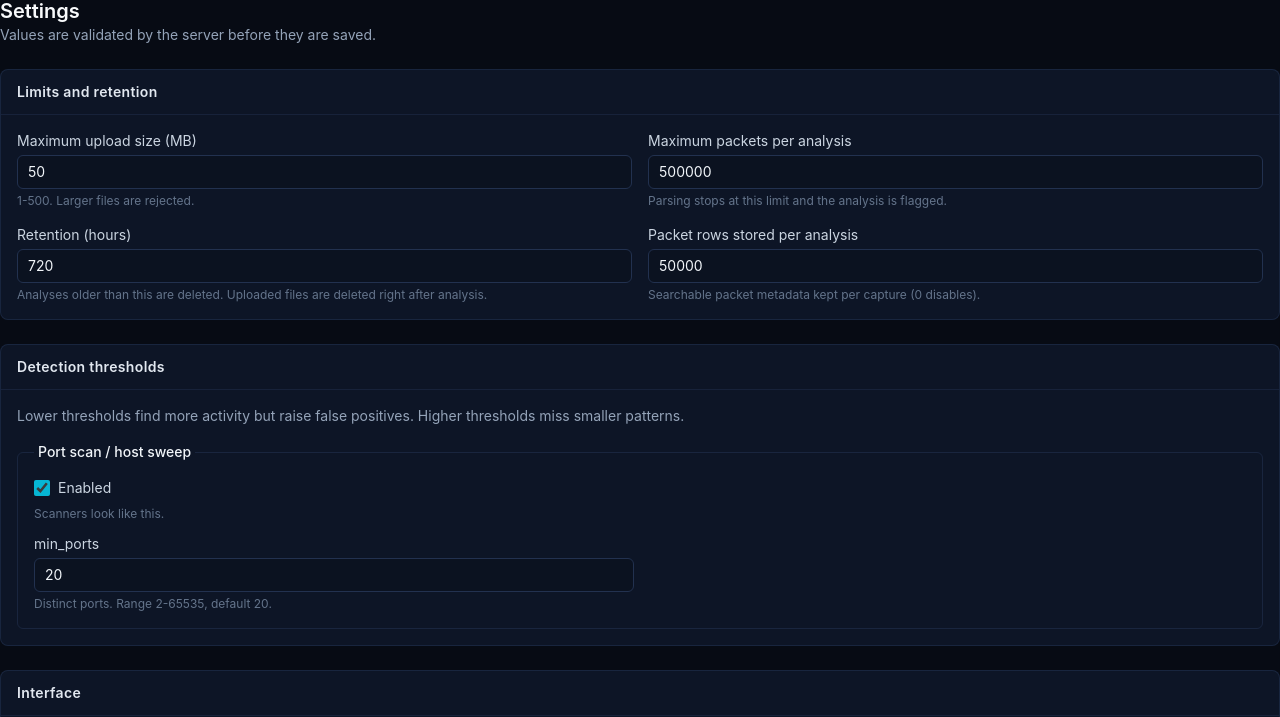
Test case: settings: loads and saves validated values
Replace the text in the number field labelled "Maximum upload size (MB)" with "100": (324, 172) [17, 155, 632, 189]
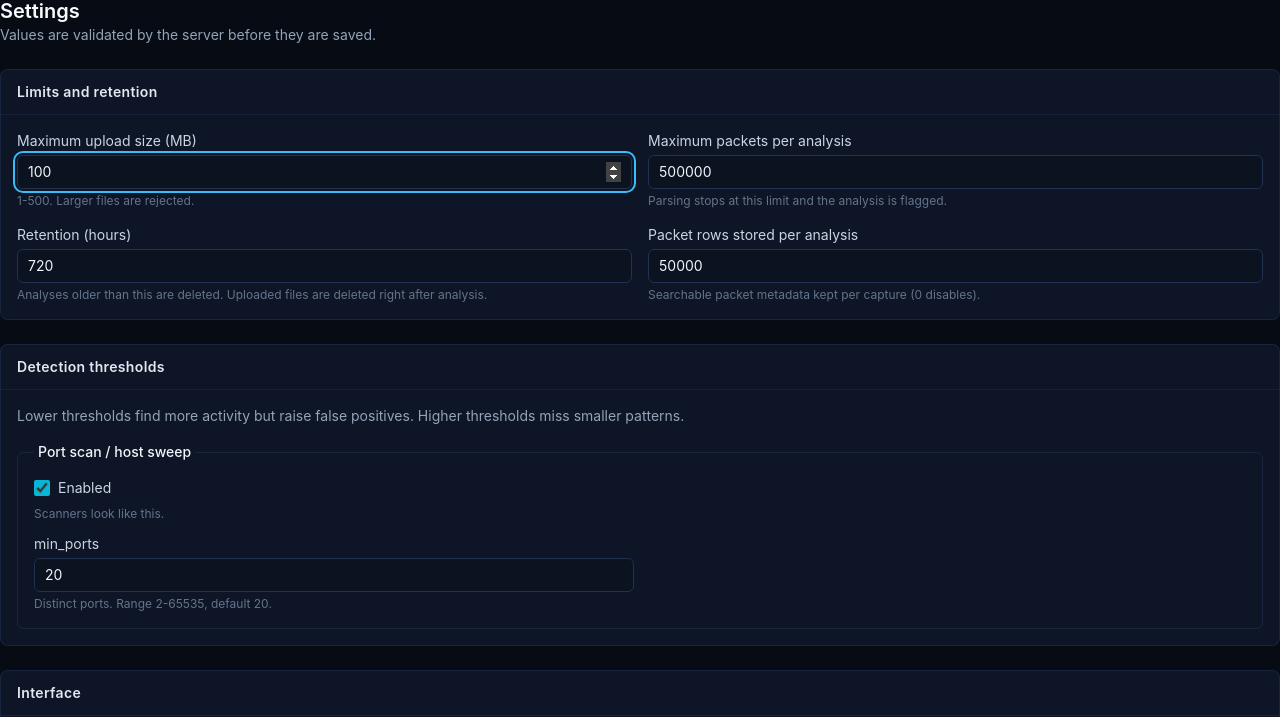
Replace the text in the number field named "Port scan / host sweep: min_ports" with "30": (334, 575) [34, 558, 634, 592]
(page scrolled)
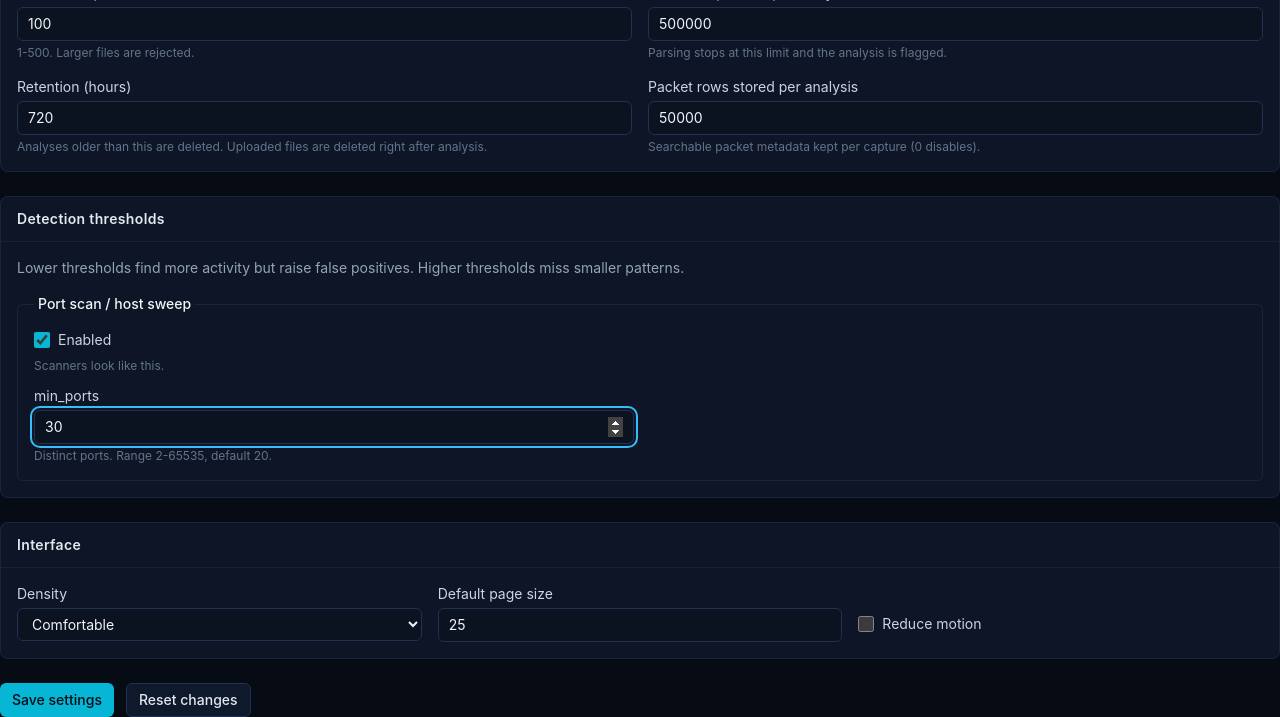
Click the button "Save settings": (57, 700) [0, 683, 114, 716]
(page scrolled)
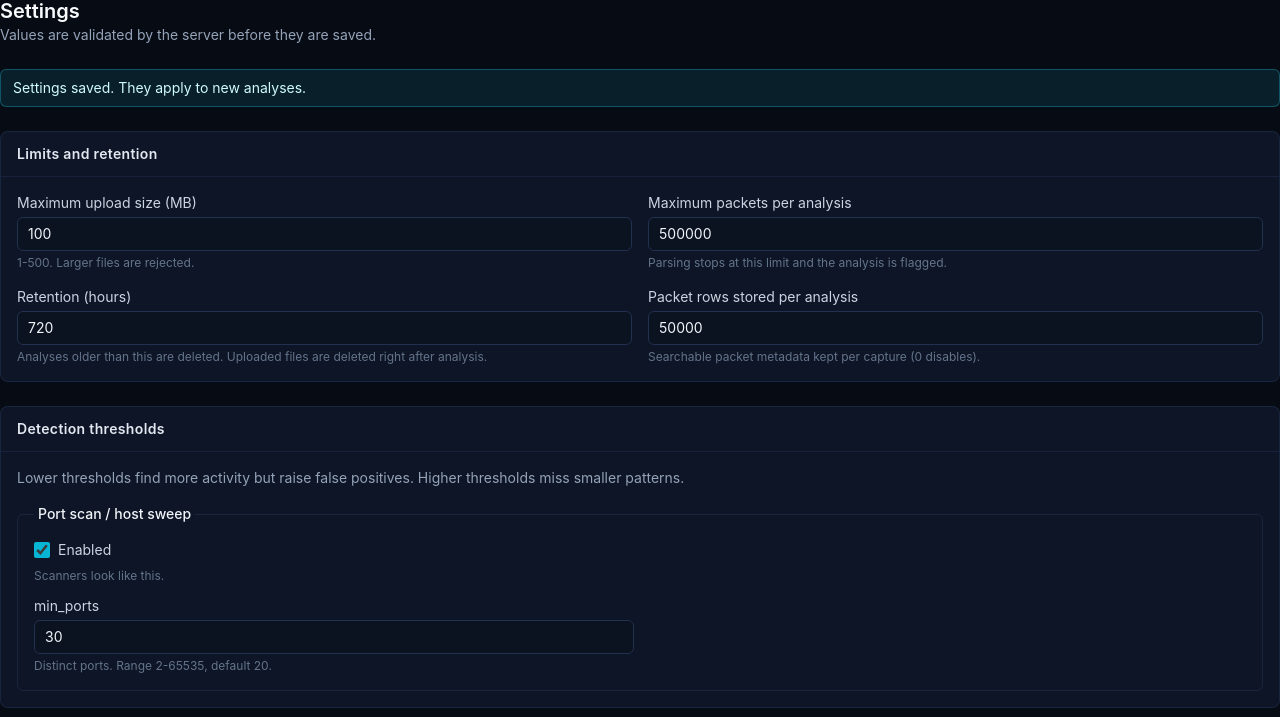
expect the text "Settings saved. They apply to new analyses." is shown: met, box [0, 69, 1279, 107]
